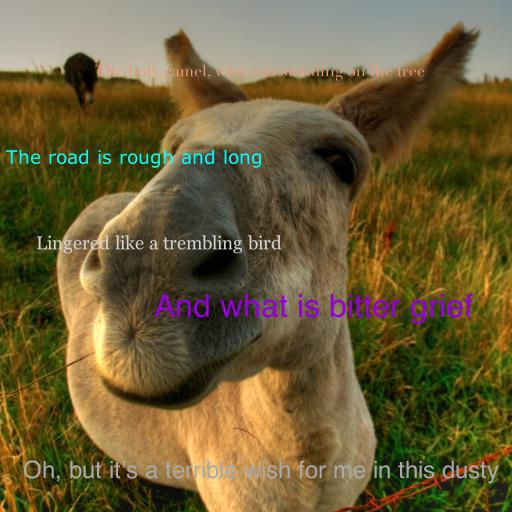Didot: (95, 64, 425, 81)
Georgia: (36, 235, 282, 254)
Impact: (153, 293, 473, 324)
SF Pro: (23, 460, 499, 484)
Verdana: (5, 149, 263, 168)
